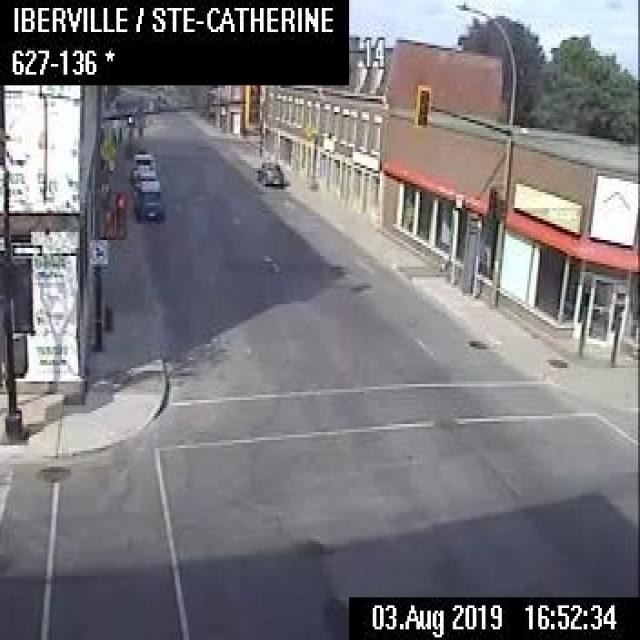vehicle: (133, 180, 162, 218), (129, 151, 157, 180), (132, 168, 158, 194), (256, 160, 282, 184)
